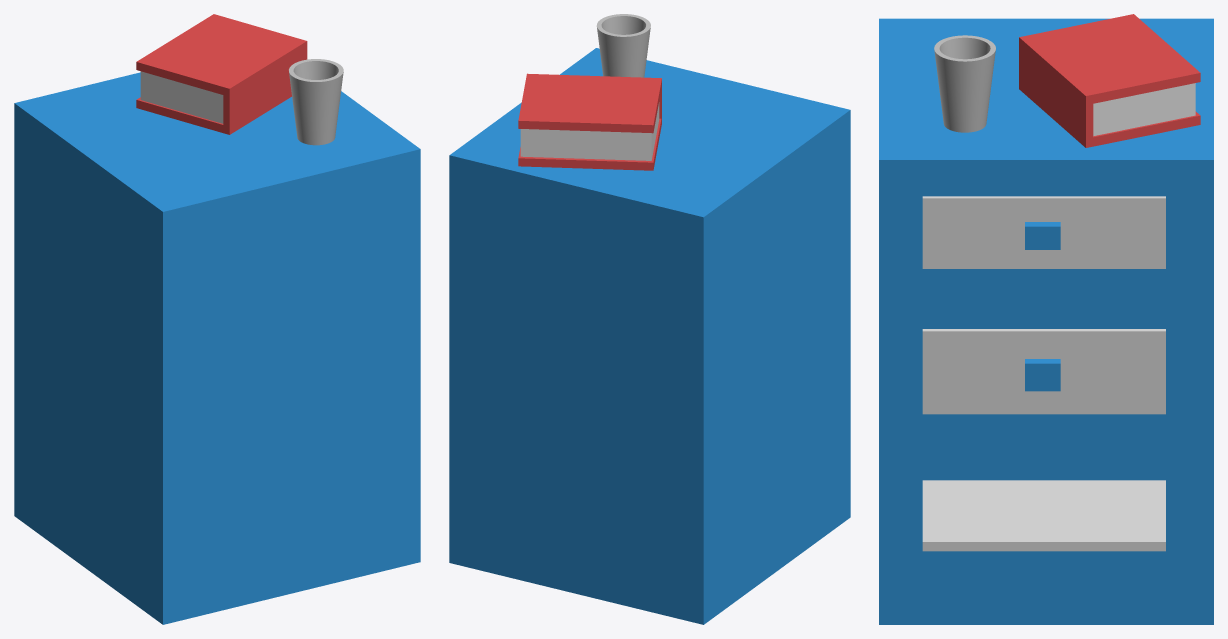
The model's file is nightstand.glb.
3 views of the same model, side by side, from view 1: azimuth 30°, elevation 25°; view 2: azimuth 150°, elevation 25°; view 3: azimuth 270°, elevation 25° (orthographic). The views are drawn at different scales.
Visible parts, largest first — view 1: Cube, Cube.001, Cylinder; view 2: Cube, Cube.001, Cylinder; view 3: Cube, Cube.001, Cylinder.
Boxes of the visible parts, <box> form: Cube: <box>14,72,420,624</box>; Cube.001: <box>136,14,307,134</box>; Cylinder: <box>289,59,343,145</box>; Cube: <box>449,48,850,624</box>; Cube.001: <box>518,73,661,170</box>; Cylinder: <box>596,14,650,77</box>; Cube: <box>879,18,1213,624</box>; Cube.001: <box>1019,14,1200,147</box>; Cylinder: <box>934,35,995,132</box>.
Size of the model in its own units: 2.09 by 3.56 by 2.
